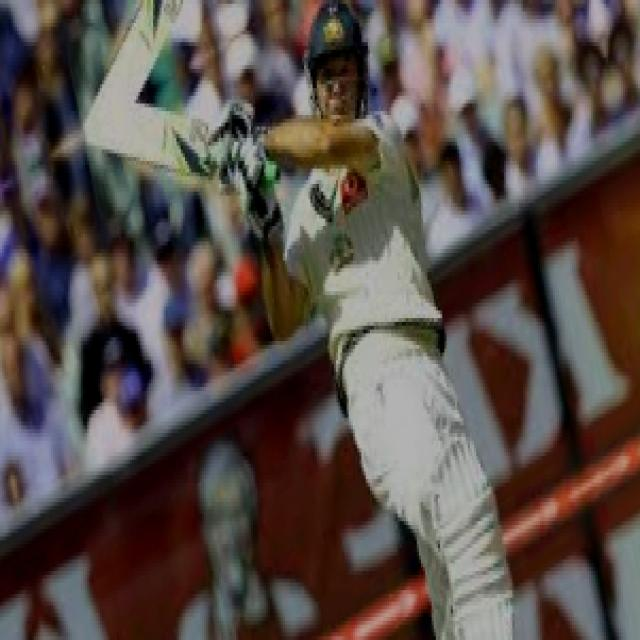toe: (79, 103, 129, 152)
